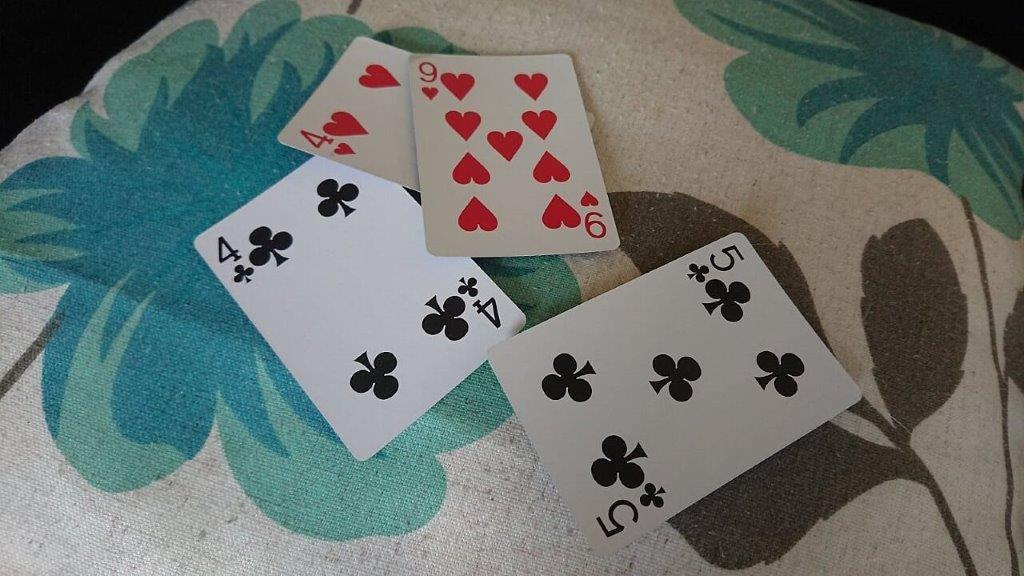4C: (213, 232, 257, 289)
5C: (683, 240, 748, 286)
9H: (413, 57, 442, 104)
